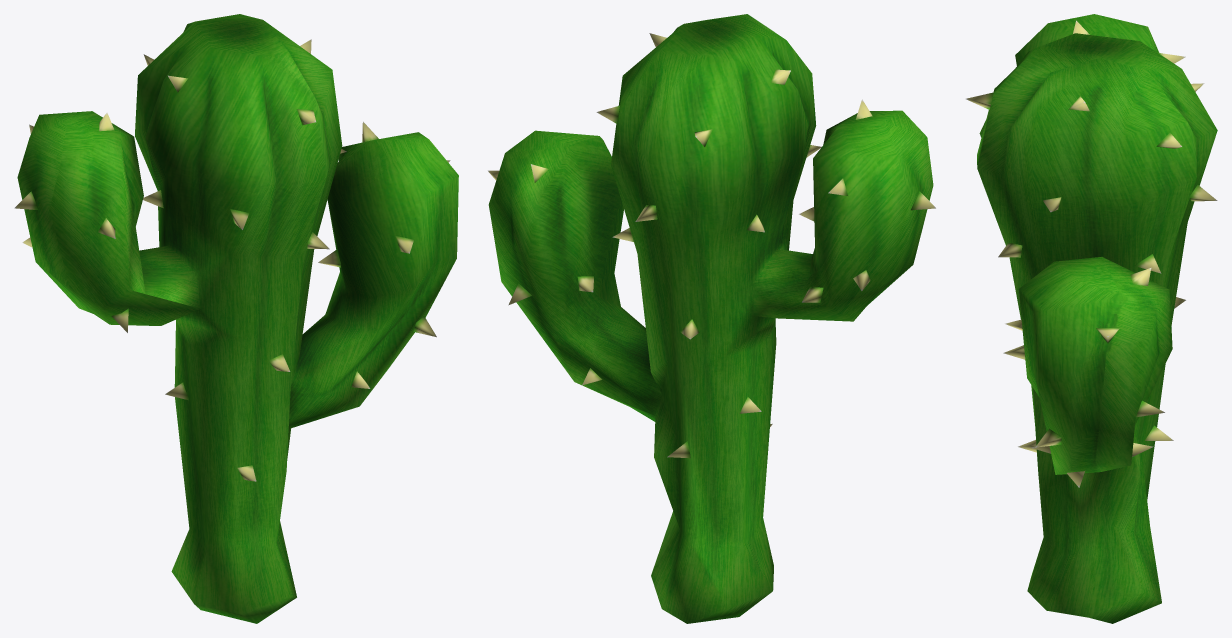
The model's file is Cactus.fbx.
3 views of the same model, side by side, from view 1: azimuth 30°, elevation 25°; view 2: azimuth 150°, elevation 25°; view 3: azimuth 270°, elevation 25° (orthographic).
Parts seen in each view (by area): view 1: Cactus; view 2: Cactus; view 3: Cactus.
Part boxes in pixels (box(x1,y1,x2,y2)): Cactus: box(14, 14, 458, 623); Cactus: box(488, 14, 935, 623); Cactus: box(966, 14, 1217, 623).
Size of the model in its own units: 414 by 516 by 208.
1 material, 1 textured.
